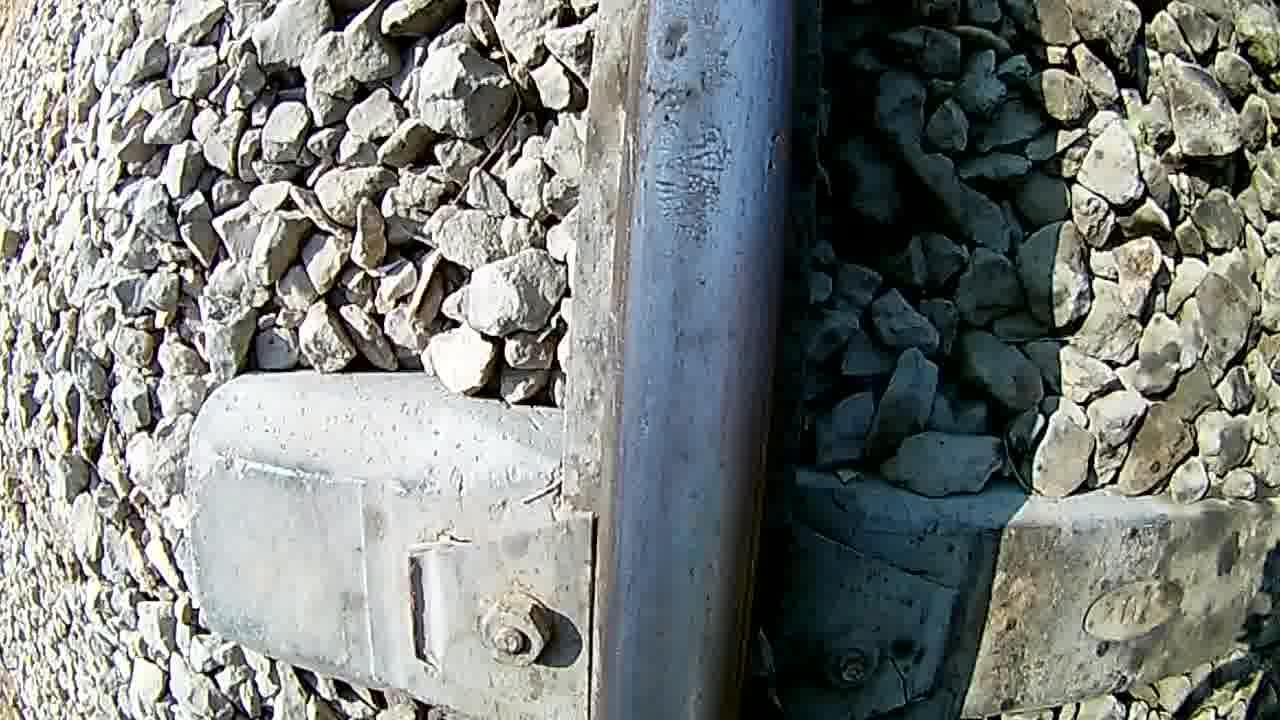crack: (598, 1, 795, 720)
